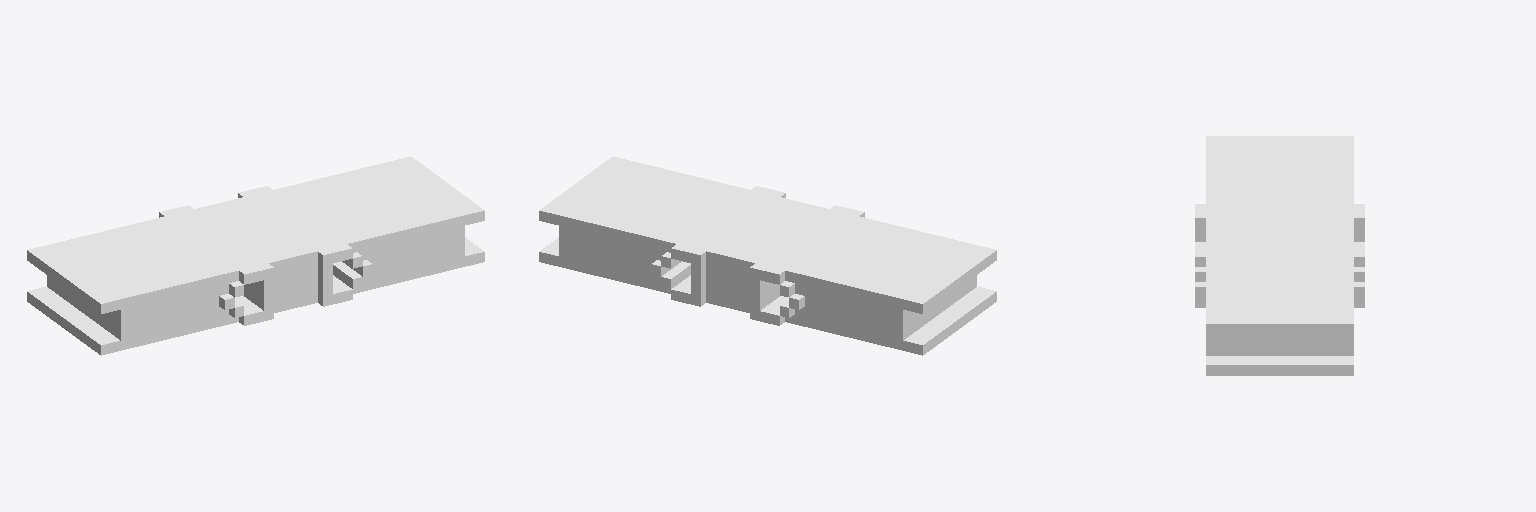
The model's file is Lift_Sides.obj.
3 renders of one model, left to right at view 1: azimuth 30°, elevation 25°; view 2: azimuth 150°, elevation 25°; view 3: azimuth 270°, elevation 25°, orthographic.
Parts seen in each view (by area): view 1: object 1; view 2: object 1; view 3: object 1.
Part boxes in pixels (bbox=[...]): object 1: bbox=[27, 156, 484, 355]; object 1: bbox=[539, 156, 996, 355]; object 1: bbox=[1195, 136, 1364, 375].
Size of the model in its own units: 3.9 by 0.5 by 1.5.